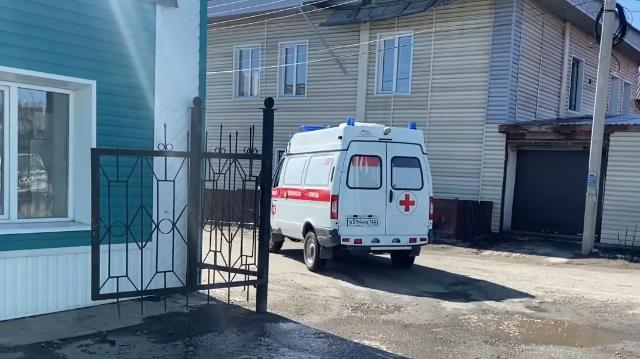ambulance: (268, 123, 432, 272)
